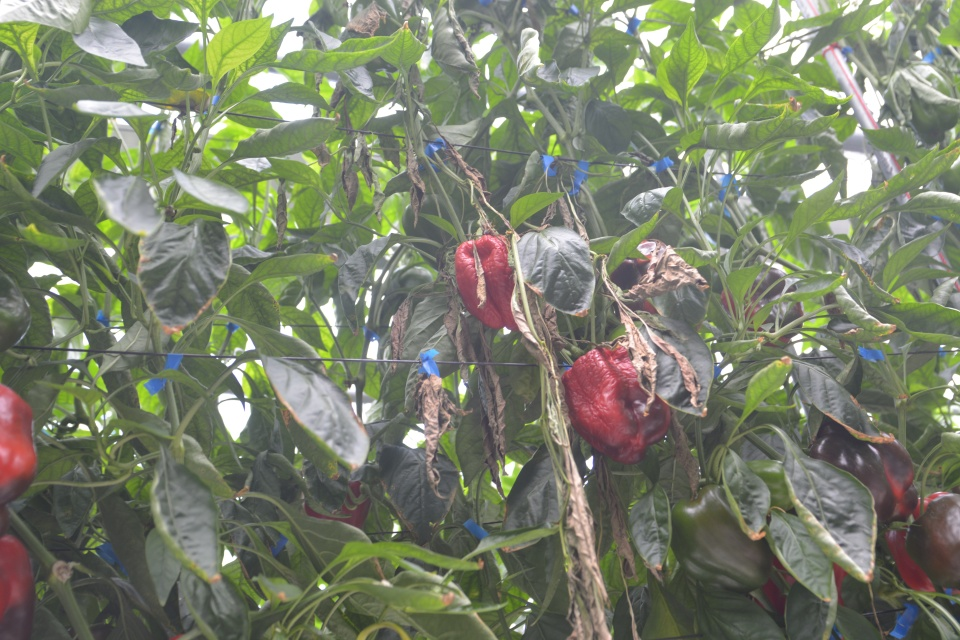fruit: (560, 344, 672, 465), (811, 420, 920, 526), (669, 482, 771, 593), (883, 490, 960, 594), (720, 263, 804, 349), (452, 231, 520, 333), (750, 553, 848, 617), (600, 237, 667, 322), (899, 60, 960, 149), (0, 381, 39, 511), (403, 192, 462, 272), (304, 471, 372, 531), (0, 532, 37, 638), (744, 457, 795, 514), (0, 268, 32, 356)
